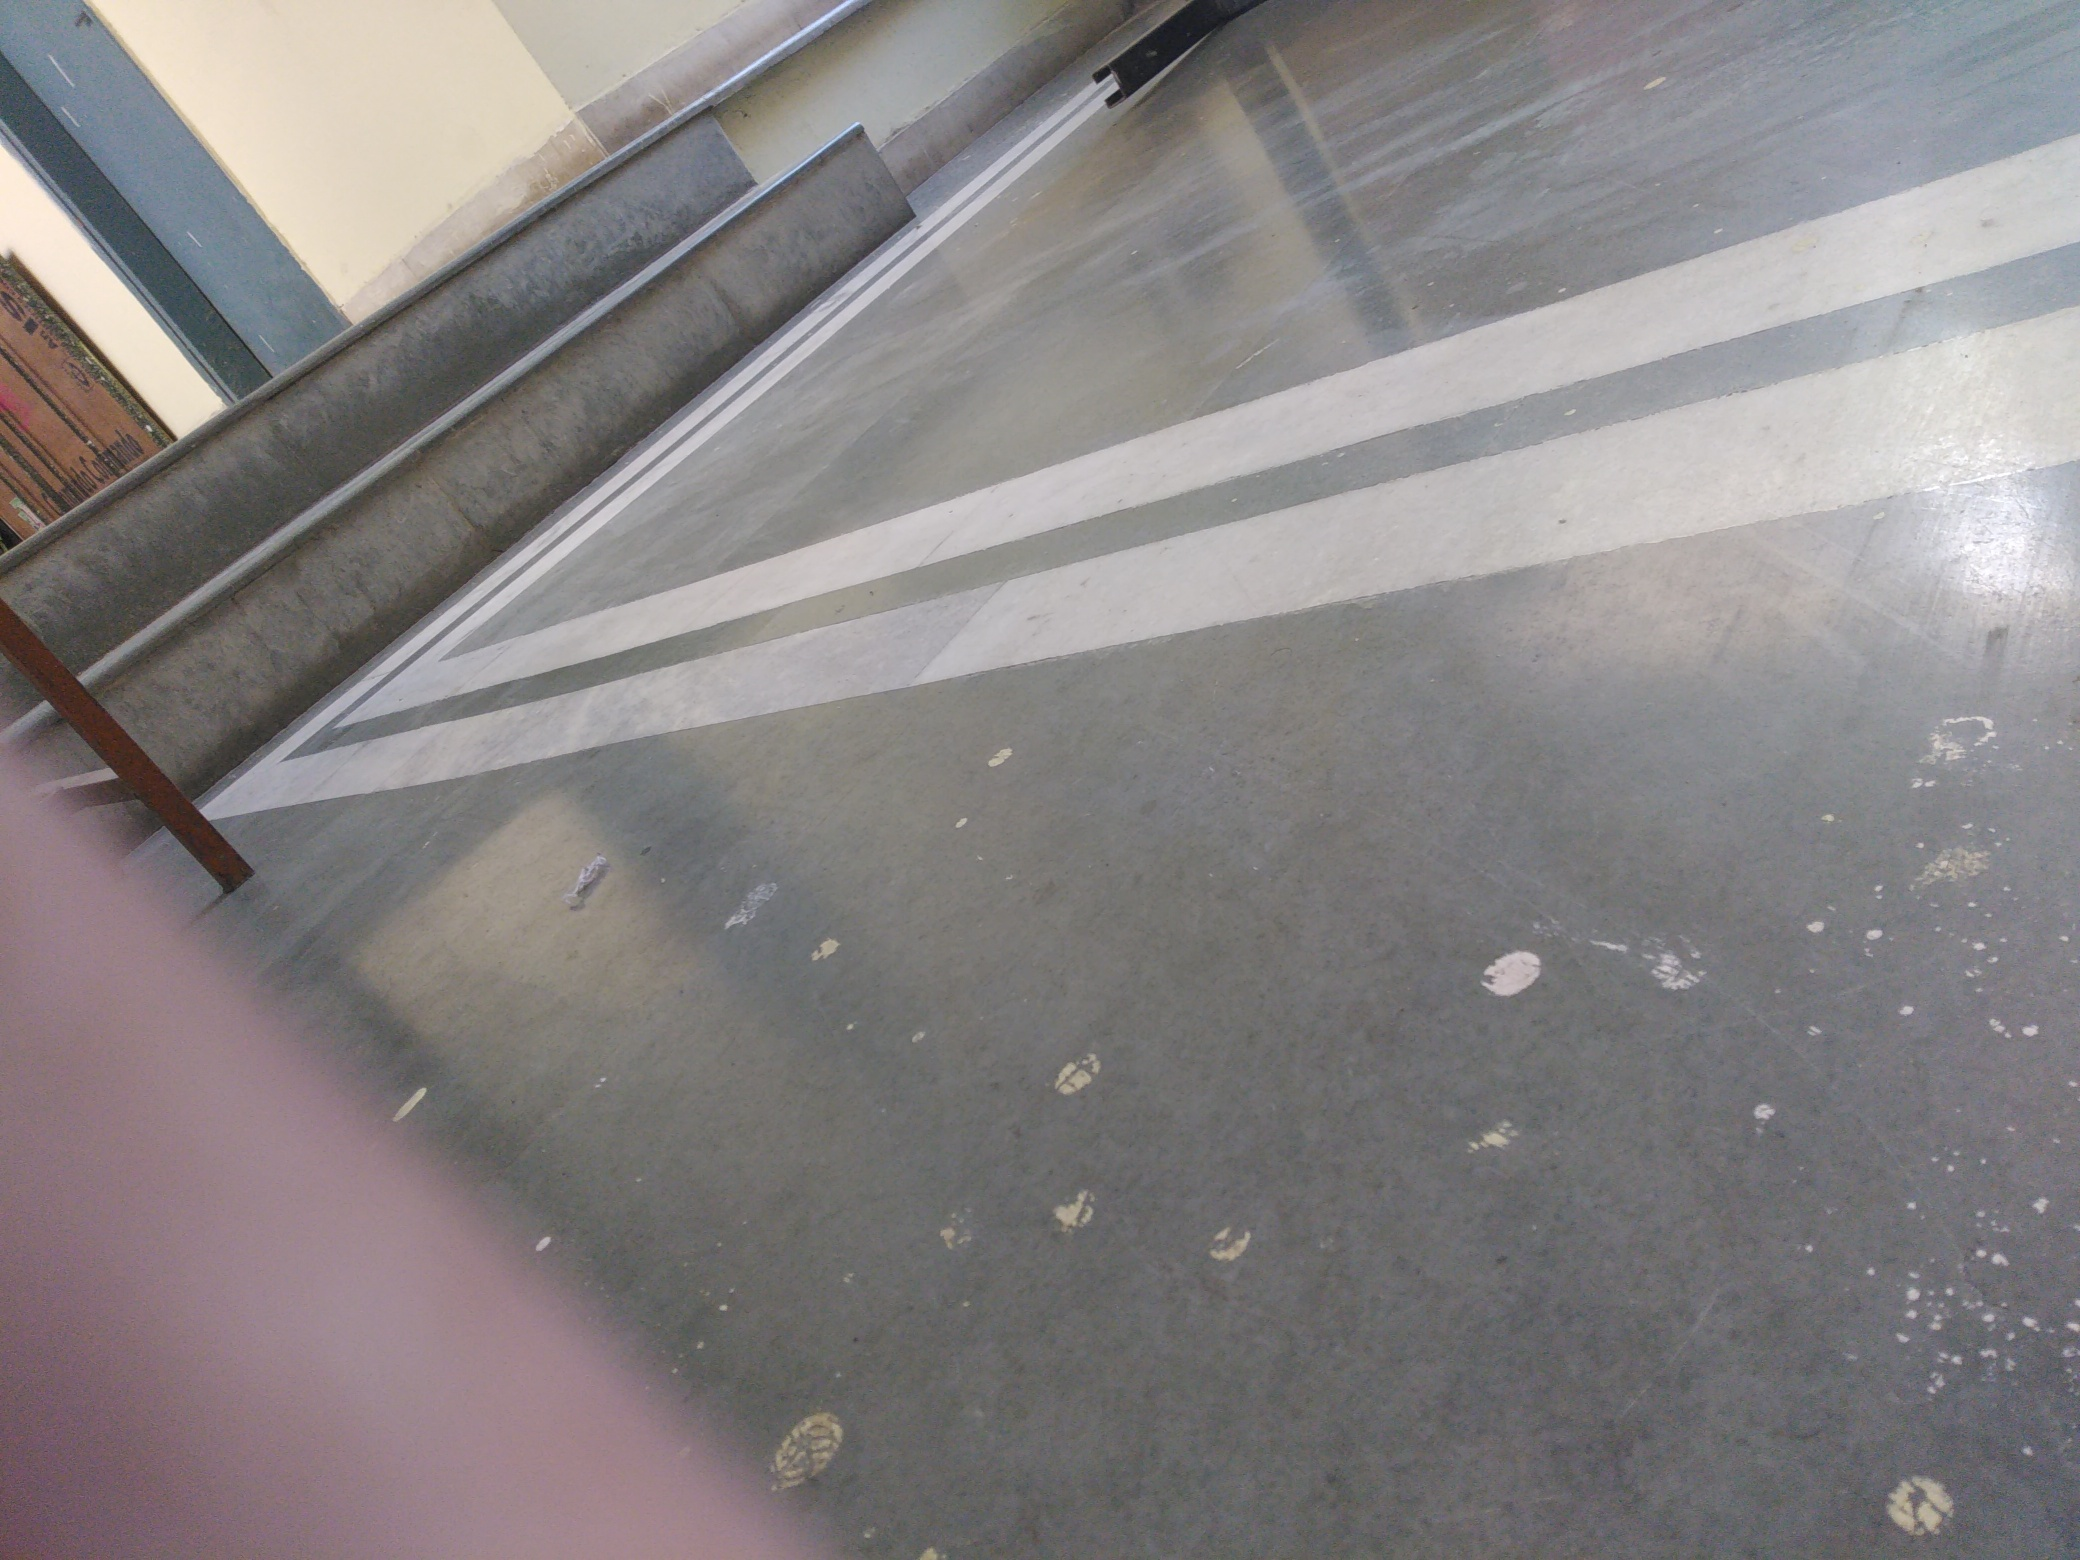stairs_up: (21, 98, 947, 772)
